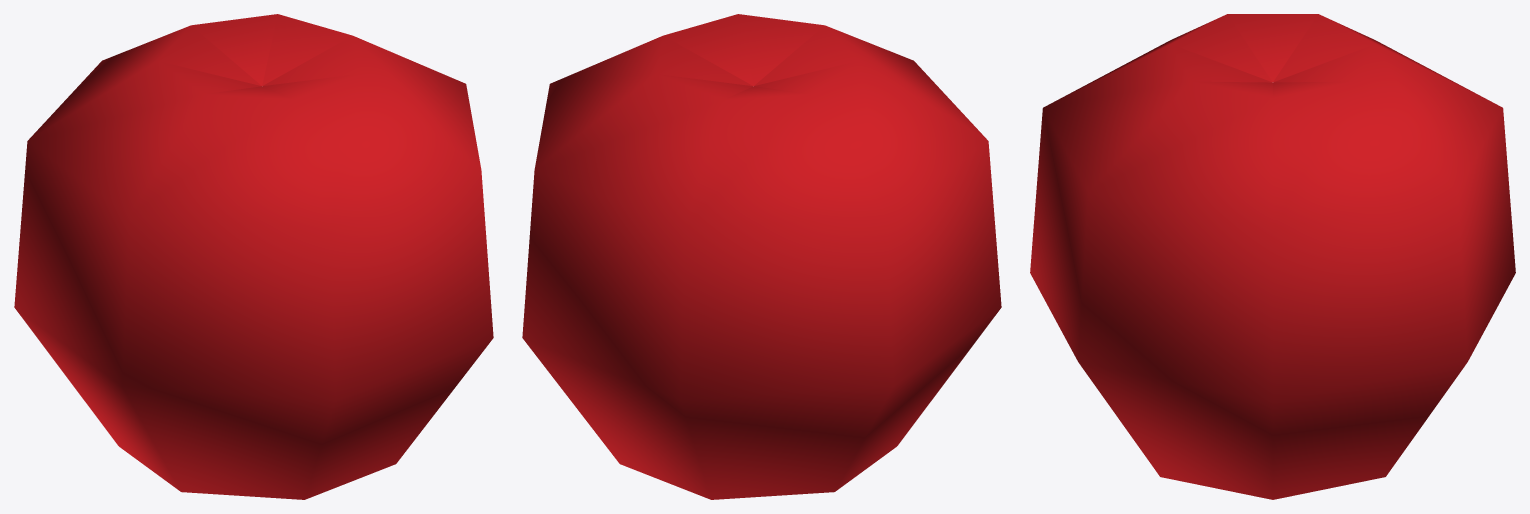
File: fruit-apple-gold-far.glb
The picture shows the model from 3 angles, left to right: view 1: azimuth 30°, elevation 25°; view 2: azimuth 150°, elevation 25°; view 3: azimuth 270°, elevation 25°; orthographic projection.
Visible parts, largest first — view 1: fruit-apple-far; view 2: fruit-apple-far; view 3: fruit-apple-far.
Boxes of the visible parts, x1,y1,x2,y2 form: fruit-apple-far: (14,14,493,499); fruit-apple-far: (522,14,1001,499); fruit-apple-far: (1030,14,1515,499).
Size of the model in its own units: 0.3612 by 0.334 by 0.3705.
